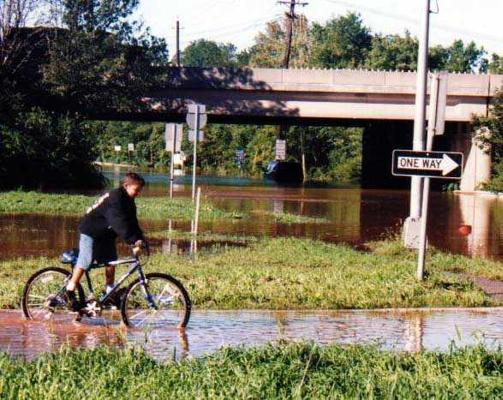person: (63, 172, 147, 312)
